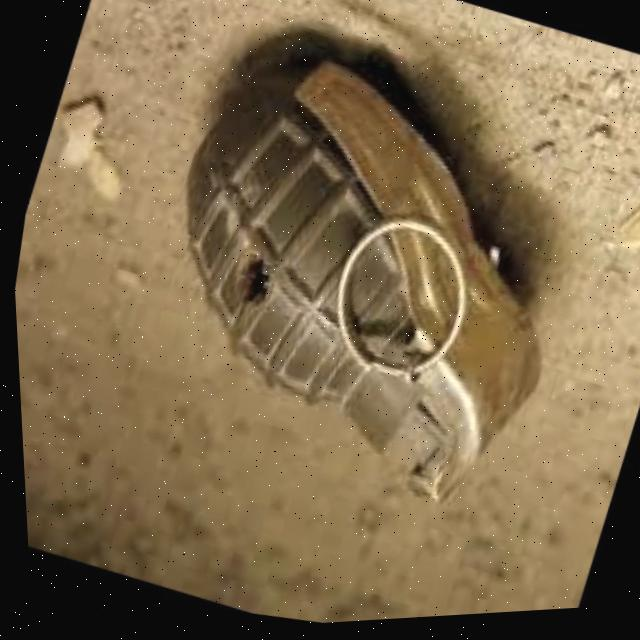grenade: (81, 10, 624, 562)
